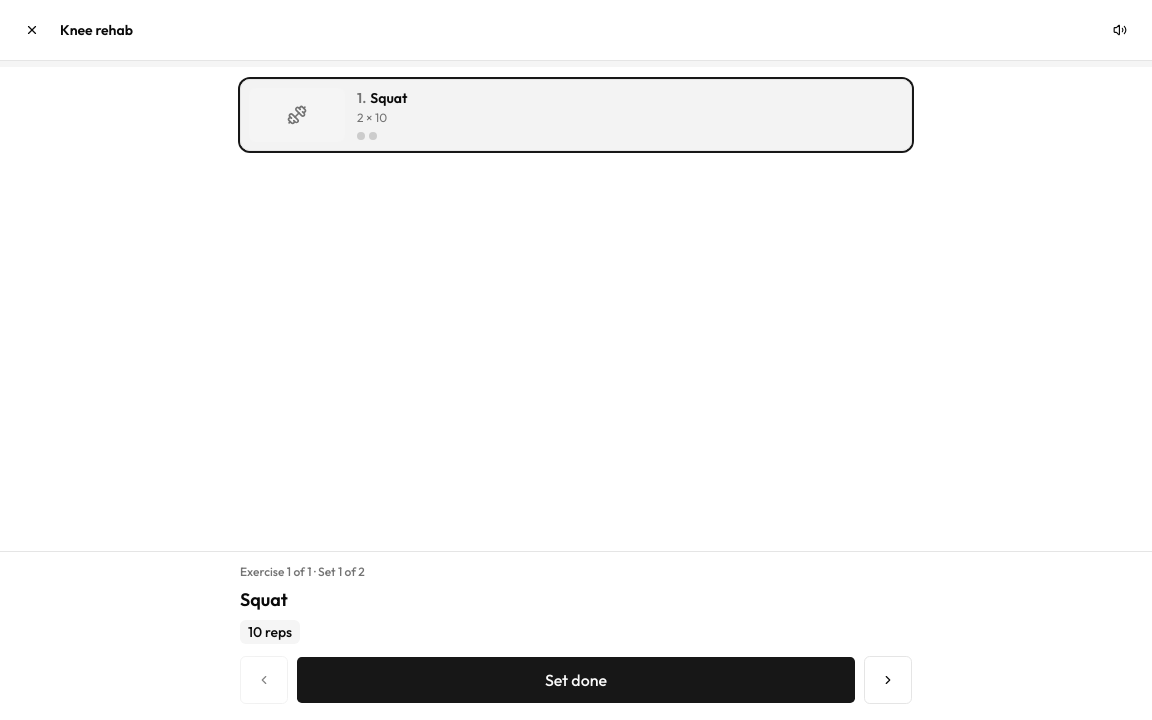
Test: WorkoutPlayer › swipes › moves to the next set when the bar is swiped
Press the mouse on the element named "Current exercise": (576, 636) [0,551,1151,719]
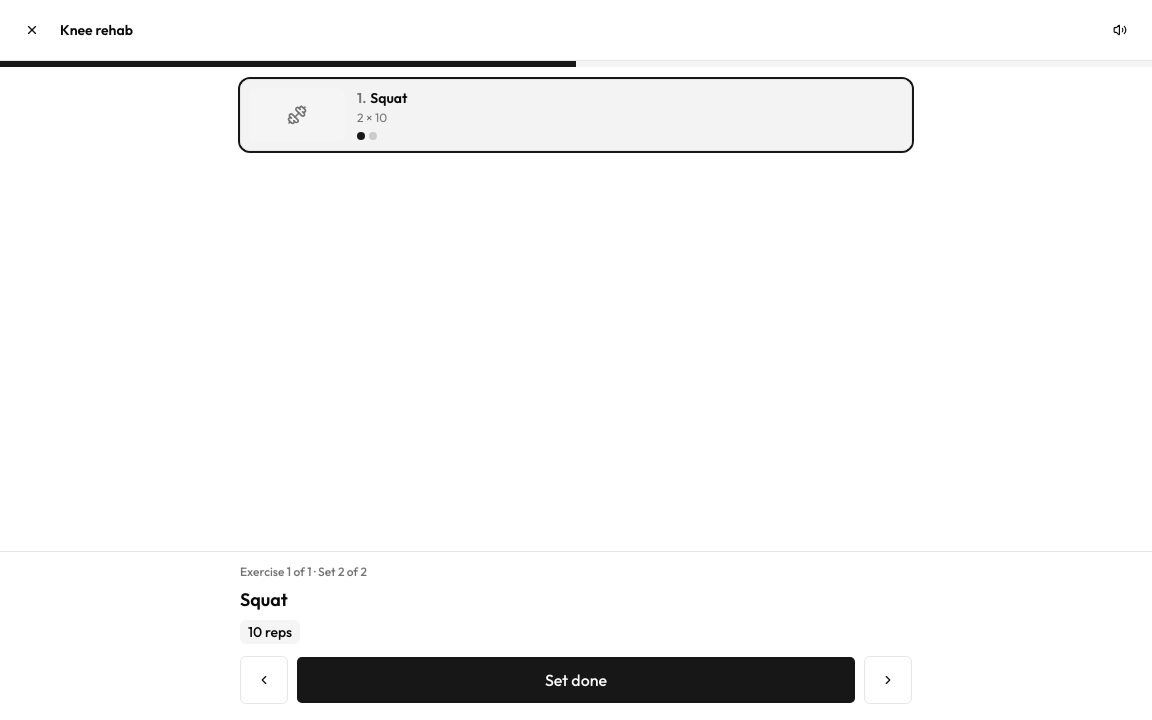
Expected: the text "Set 2 of 2" is shown, [318,564,367,580]
